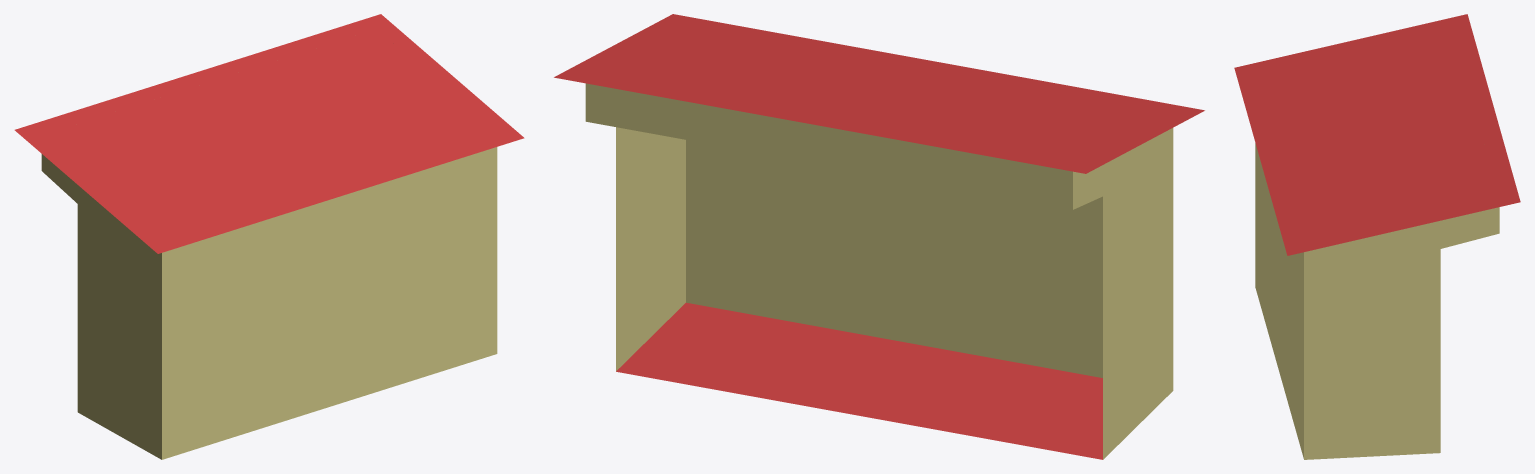
3 views of the same model, side by side, from view 1: azimuth 30°, elevation 25°; view 2: azimuth 150°, elevation 25°; view 3: azimuth 270°, elevation 25° (orthographic). The views are drawn at different scales.
Size of the model in its own units: 18.61 by 11.26 by 11.06.
